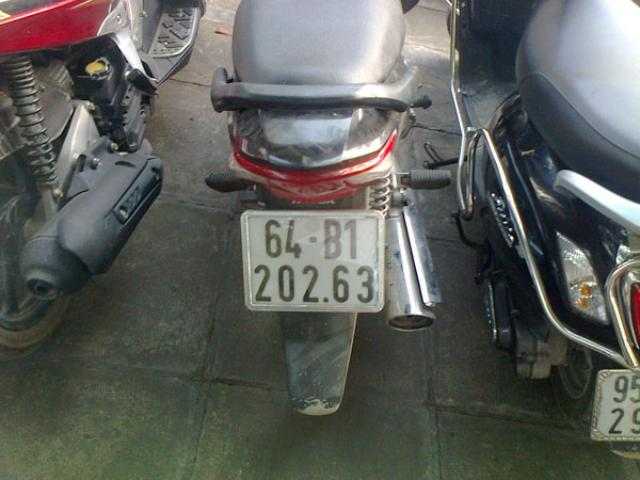plate: (242, 207, 384, 312)
